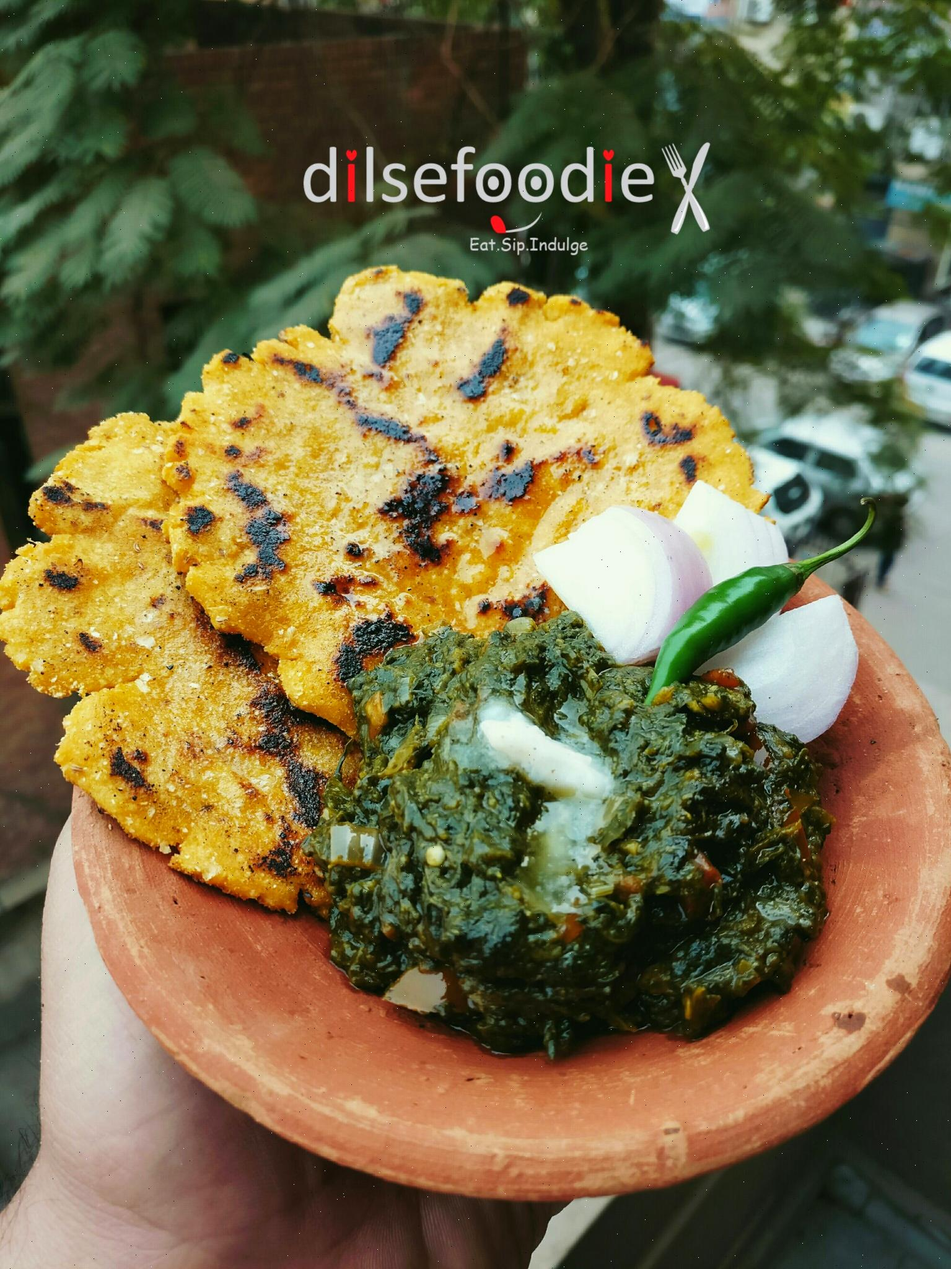saag: (346, 675, 804, 1036)
